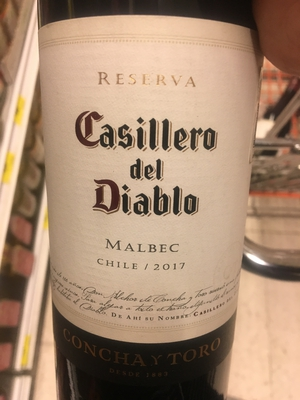casillero del diablo malbec: (34, 2, 267, 400)
